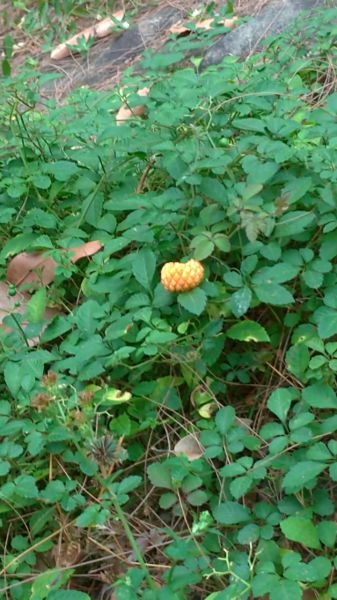eggs: (153, 250, 204, 296)
